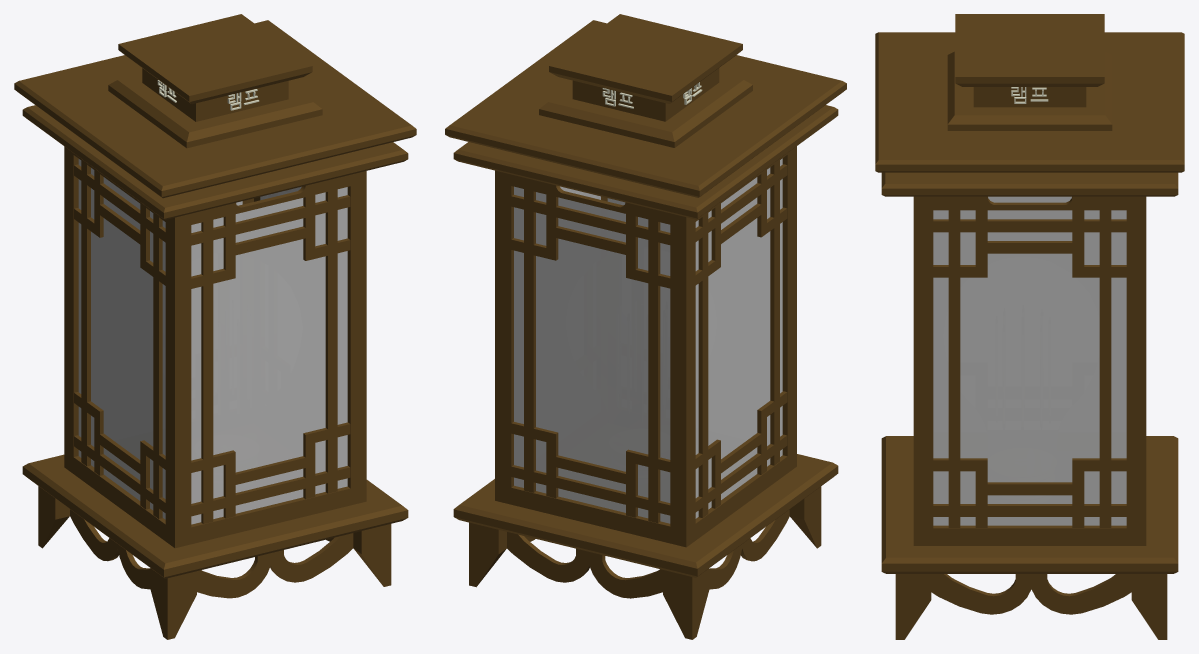
The model's file is Lamp with light bulb.dae.
3 renders of one model, left to right at view 1: azimuth 30°, elevation 25°; view 2: azimuth 150°, elevation 25°; view 3: azimuth 270°, elevation 25°, orthographic. The views are drawn at different scales.
Visible parts, largest first — view 1: Component_1 (×6), Component_9, Component_3 (×2), Component_4 (×3), Component_5, Component_8 (×3), Component_6 (×2); view 2: Component_1 (×6), Component_9, Component_3 (×2), Component_4 (×3), Component_5, Component_8 (×3), Component_6 (×2); view 3: Component_9, Component_1 (×2), Component_3 (×2), Component_4 (×3), Component_5, Component_6, Component_8 (×2).
Part boxes in pixels (bbox=[...]): Component_1 (×6): bbox=[64, 146, 366, 548]; Component_9: bbox=[78, 159, 347, 524]; Component_3 (×2): bbox=[14, 20, 416, 219]; Component_4 (×3): bbox=[108, 14, 322, 148]; Component_5: bbox=[22, 454, 408, 578]; Component_8 (×3): bbox=[38, 486, 391, 639]; Component_6 (×2): bbox=[70, 509, 353, 598]; Component_1 (×6): bbox=[495, 146, 796, 547]; Component_9: bbox=[514, 158, 782, 523]; Component_3 (×2): bbox=[445, 20, 846, 219]; Component_4 (×3): bbox=[539, 14, 752, 147]; Component_5: bbox=[453, 454, 838, 577]; Component_8 (×3): bbox=[469, 486, 821, 639]; Component_6 (×2): bbox=[507, 509, 789, 598]; Component_9: bbox=[933, 196, 1126, 525]; Component_1 (×2): bbox=[913, 196, 1146, 545]; Component_3 (×2): bbox=[875, 32, 1184, 196]; Component_4 (×3): bbox=[947, 14, 1112, 130]; Component_5: bbox=[881, 436, 1178, 573]; Component_6: bbox=[931, 574, 1131, 614]; Component_8 (×2): bbox=[895, 574, 1167, 639].
Bounding box in the file's own units: 10.23 × 10.23 × 19.57.
